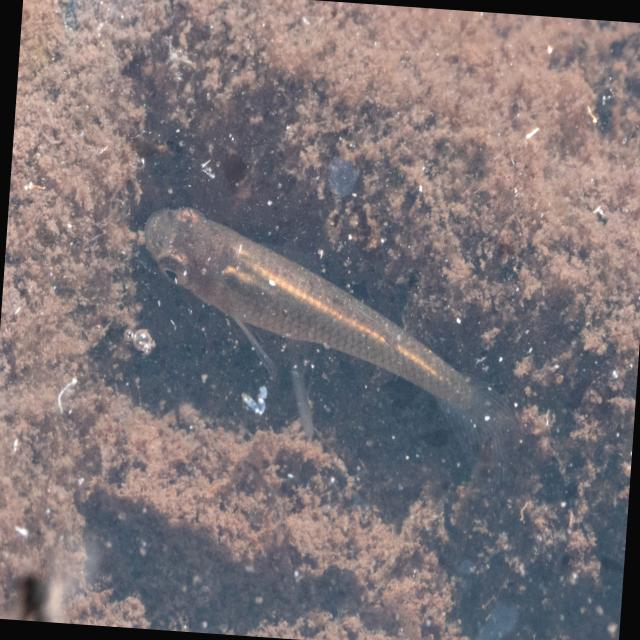Sivrisinek Baligi: (124, 196, 535, 483)
